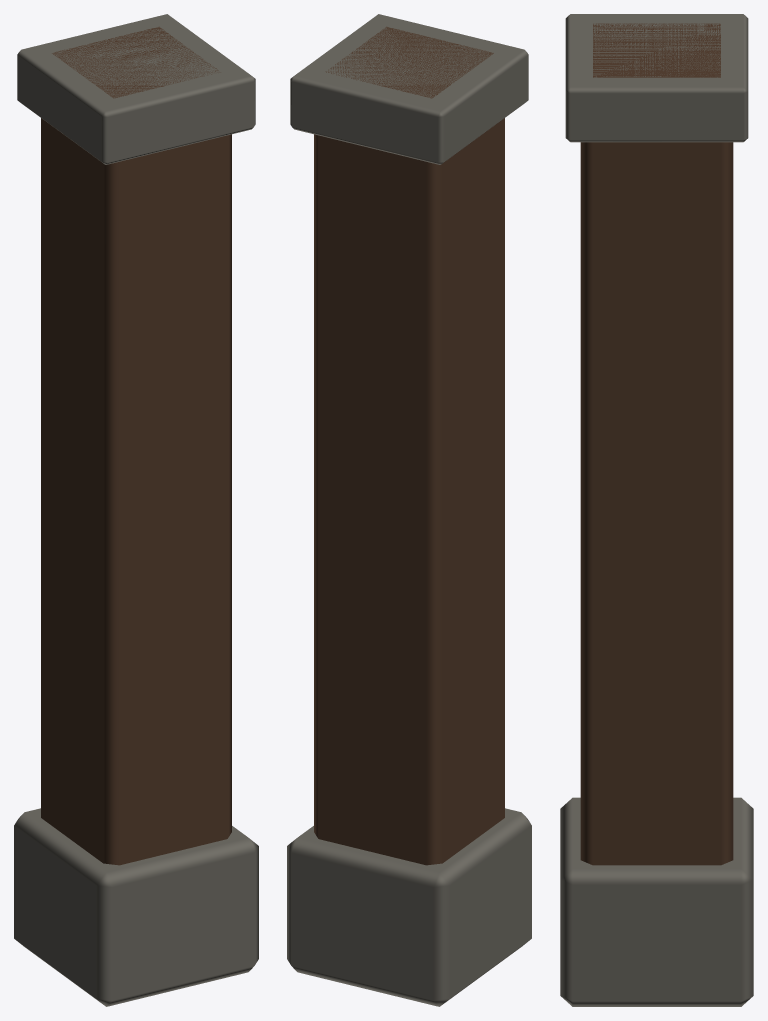
The model's file is village-post-t.024eca74.glb.
The picture shows the model from 3 angles, left to right: view 1: azimuth 30°, elevation 25°; view 2: azimuth 150°, elevation 25°; view 3: azimuth 270°, elevation 25°; orthographic projection. The views are drawn at different scales.
Parts seen in each view (by area): view 1: body; view 2: body; view 3: body.
Part boxes in pixels (x1,y1,x2,y2): body: (14,14,258,1006); body: (287,14,531,1006); body: (560,14,753,1006).
Size of the model in its own units: 0.38 by 2 by 0.38.
